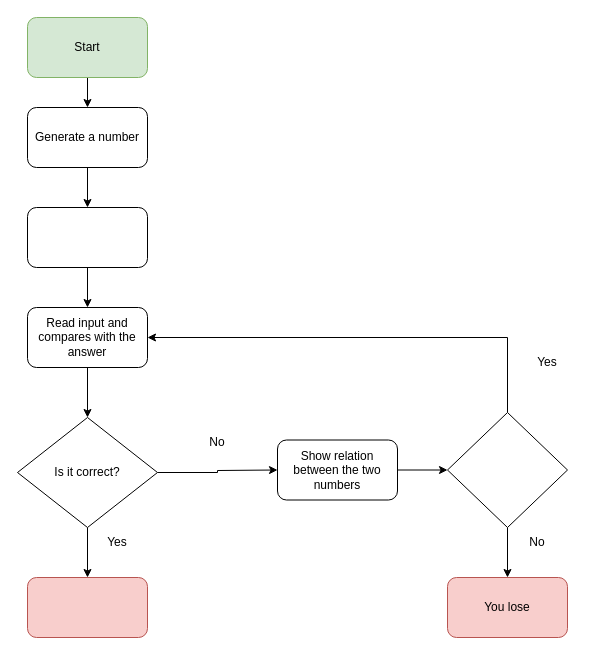
Some shapes in this 595 by 655 pixel diagram are drawn without their labels. The shapes that lost their labels are listed below. From the top down, each one's centre as x and y in pixels, then its label:
point (87, 237): Ask for the difficulty and set the number of attempts
point (507, 470): More attempts?
point (87, 607): You win
